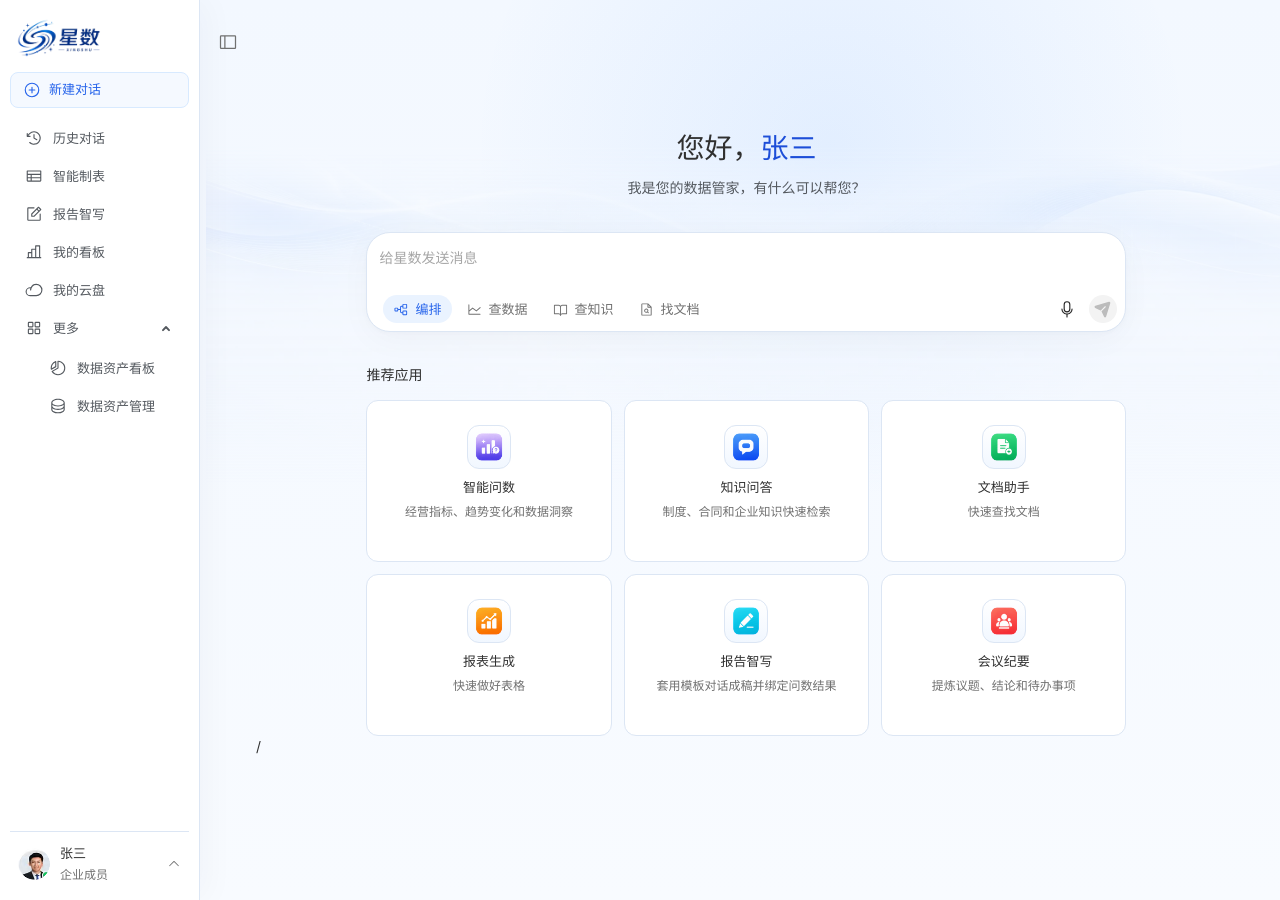
HomePage › opens the knowledge workspace and selects the knowledge model
This screenshot has width=1280, height=900.
Click the button with aria-label "打开 知识问答": point(746, 482) [641,415,852,549]
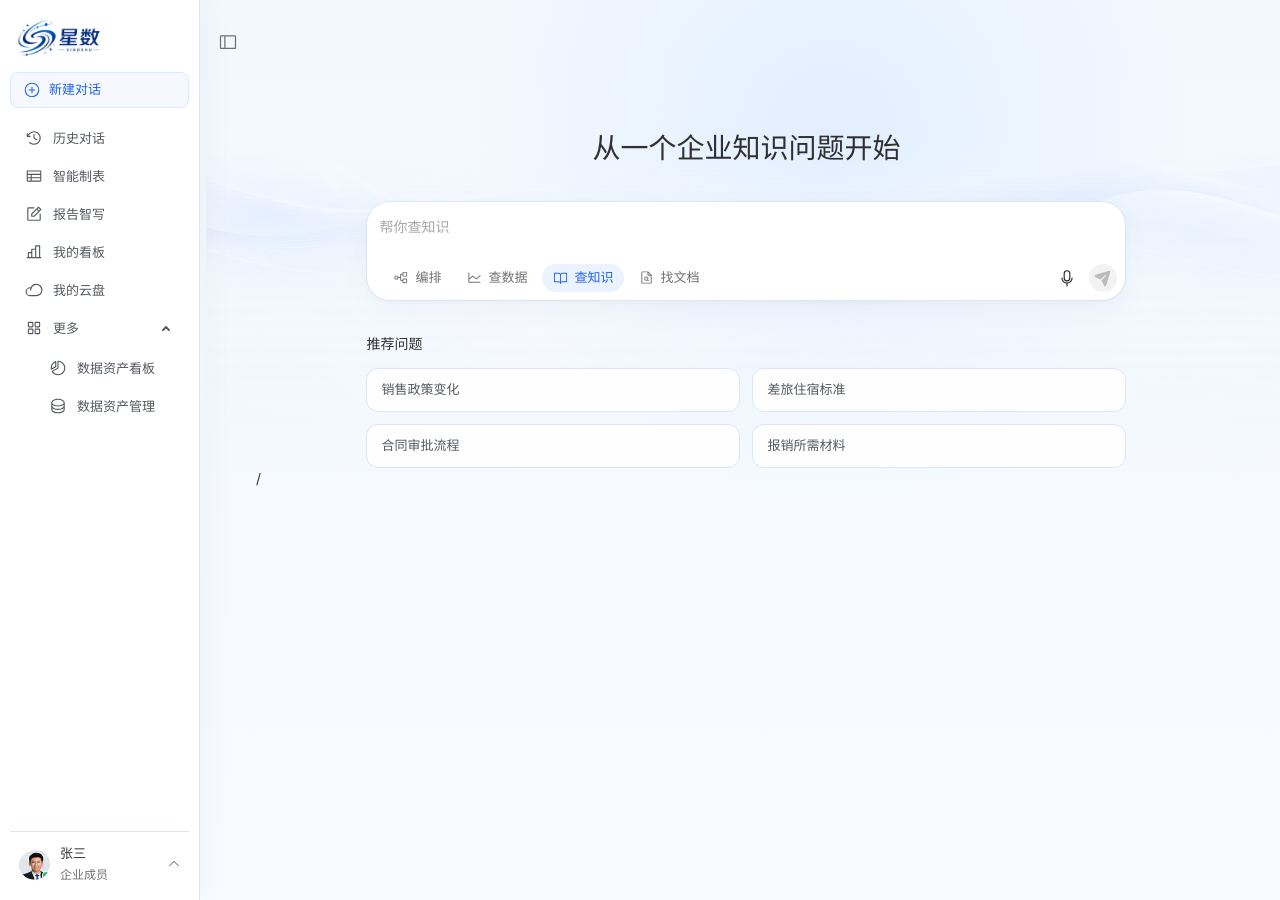
Expected: the text box named "命令输入" is empty, [367,202,1125,264]
Expected: the button with aria-label "选择模型，当前问知模型" is shown, [542,264,624,292]
Expected: the heading "从一个企业知识问题开始" is shown, [592,131,900,165]
